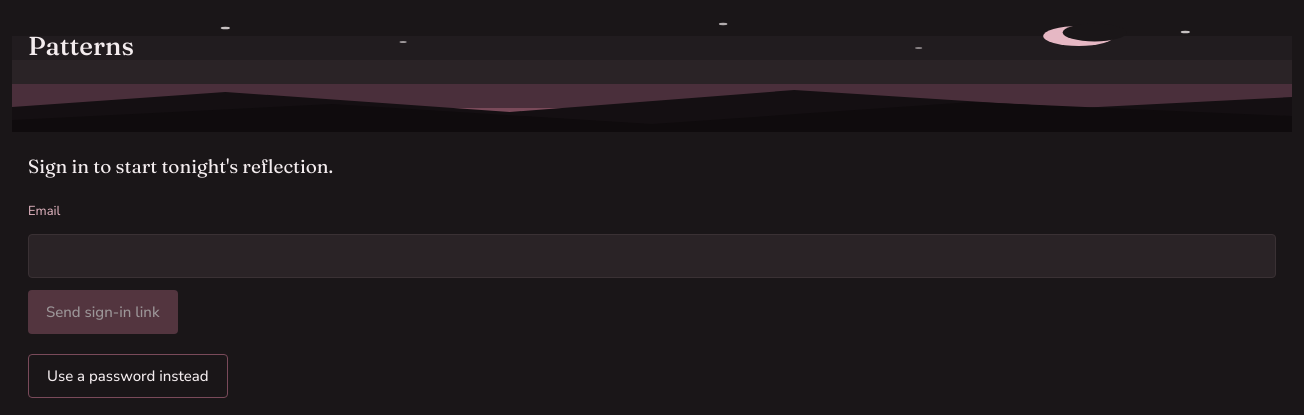
it: SignIn › sends the OTP without creating a user and shows the check-email message
Type "someone@example.invalid" into the field labelled "Email" at x=652, y=256, box 28,234 -> 1276,278
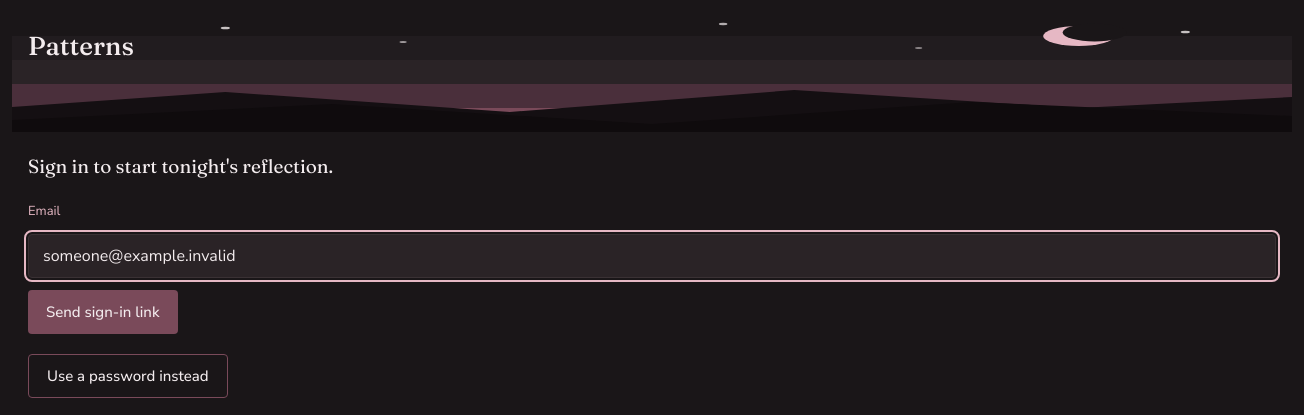
Click the button "Send sign-in link" at x=103, y=312, box 28,290 -> 178,334
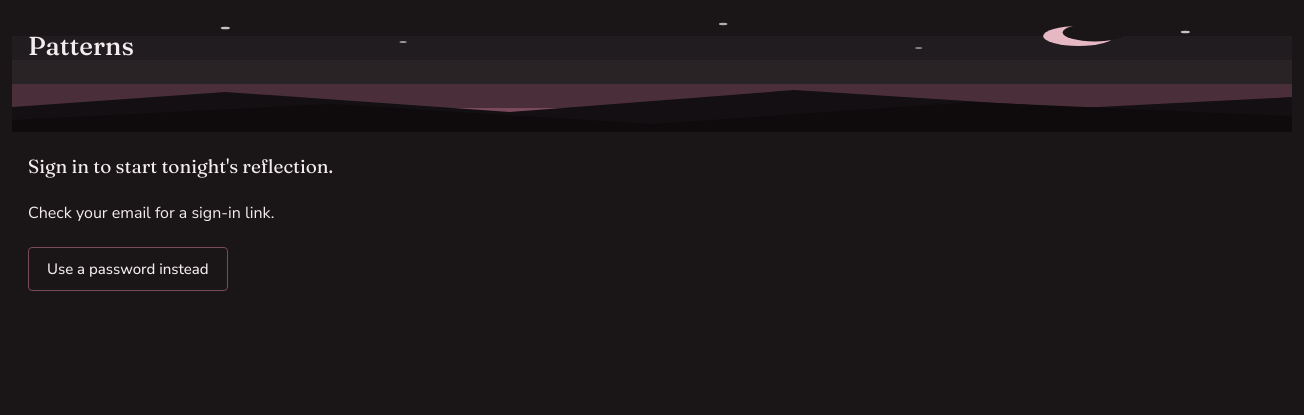
expect the text "someone@example.invalid" is not shown: met
expect the text "Check your email for a sign-in link." is shown: met, box 28,202 -> 274,224
